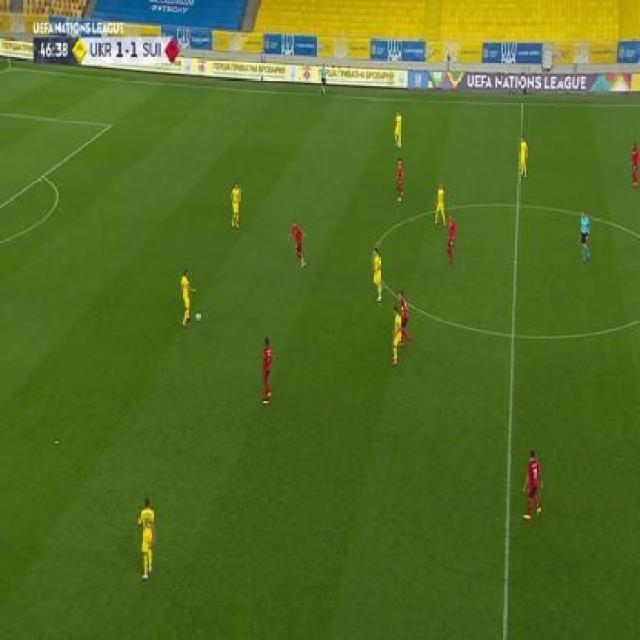ball: (195, 310, 201, 321)
player: (136, 494, 156, 582), (522, 448, 544, 524), (286, 219, 308, 270), (178, 268, 195, 328), (260, 335, 274, 406), (397, 292, 413, 351), (390, 303, 403, 368), (370, 246, 384, 302), (578, 209, 592, 262), (445, 212, 458, 269), (431, 181, 447, 227), (229, 181, 242, 229), (517, 134, 530, 179), (394, 156, 405, 202), (630, 142, 639, 188), (318, 62, 329, 96), (393, 108, 402, 148)
